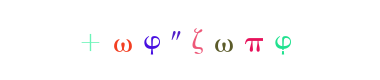0: (151, 0, 231, 80)
1: (117, 0, 197, 80)
P: (184, 0, 264, 80)
V: (146, 0, 226, 80), (155, 0, 235, 80)
W: (149, 0, 229, 80), (242, 0, 322, 80)
Z: (152, 0, 232, 80)
